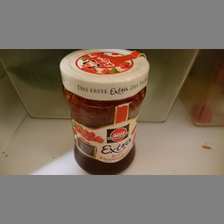jam: (58, 49, 149, 173)
